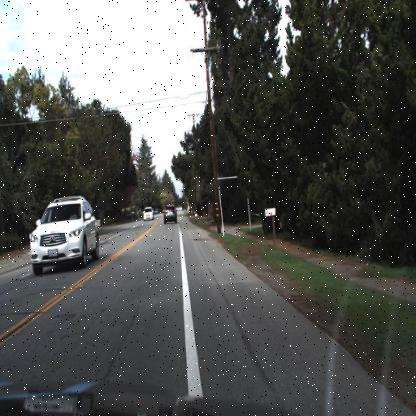car: (30, 195, 100, 276), (162, 201, 178, 225), (141, 204, 155, 223)
